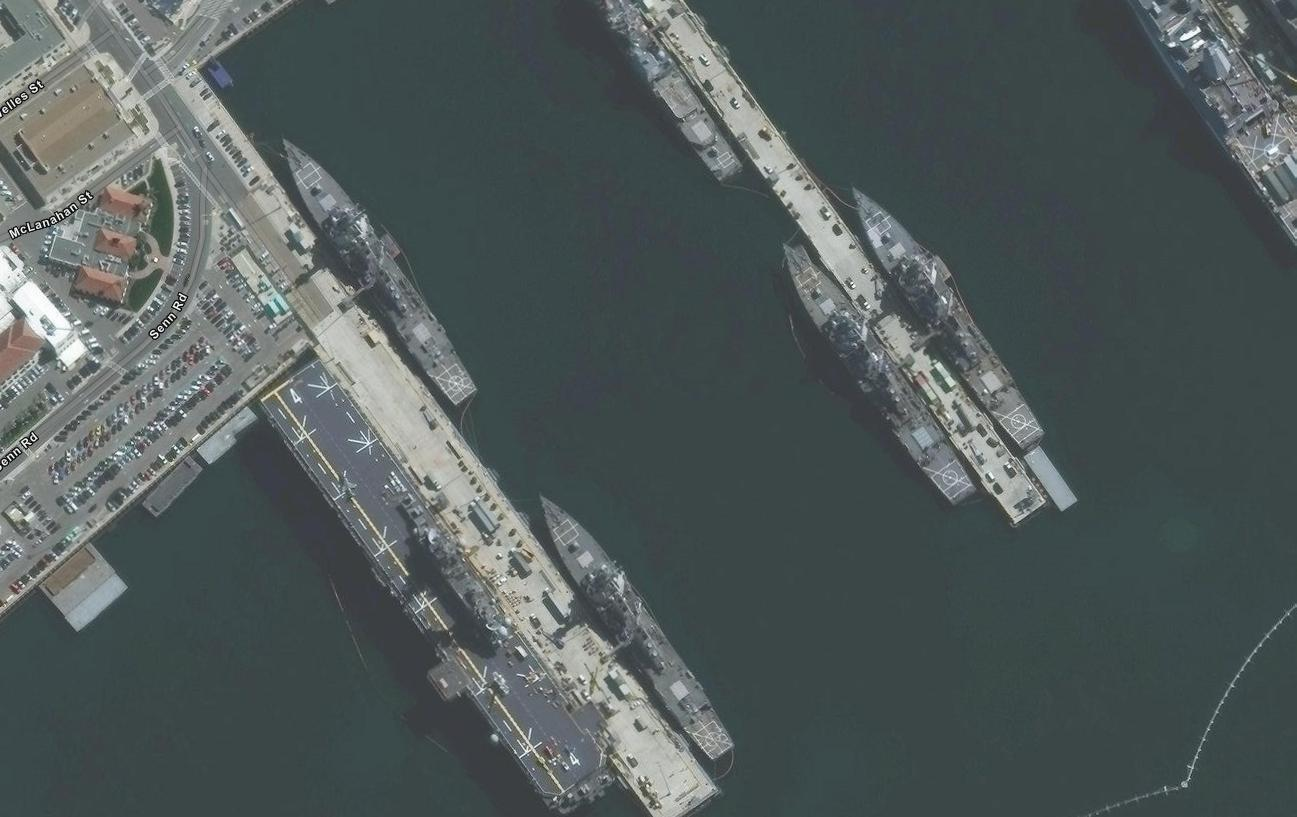fregate: (271, 129, 492, 411), (842, 172, 1060, 455), (536, 491, 746, 764), (772, 239, 979, 505)
pha: (226, 361, 629, 814)
